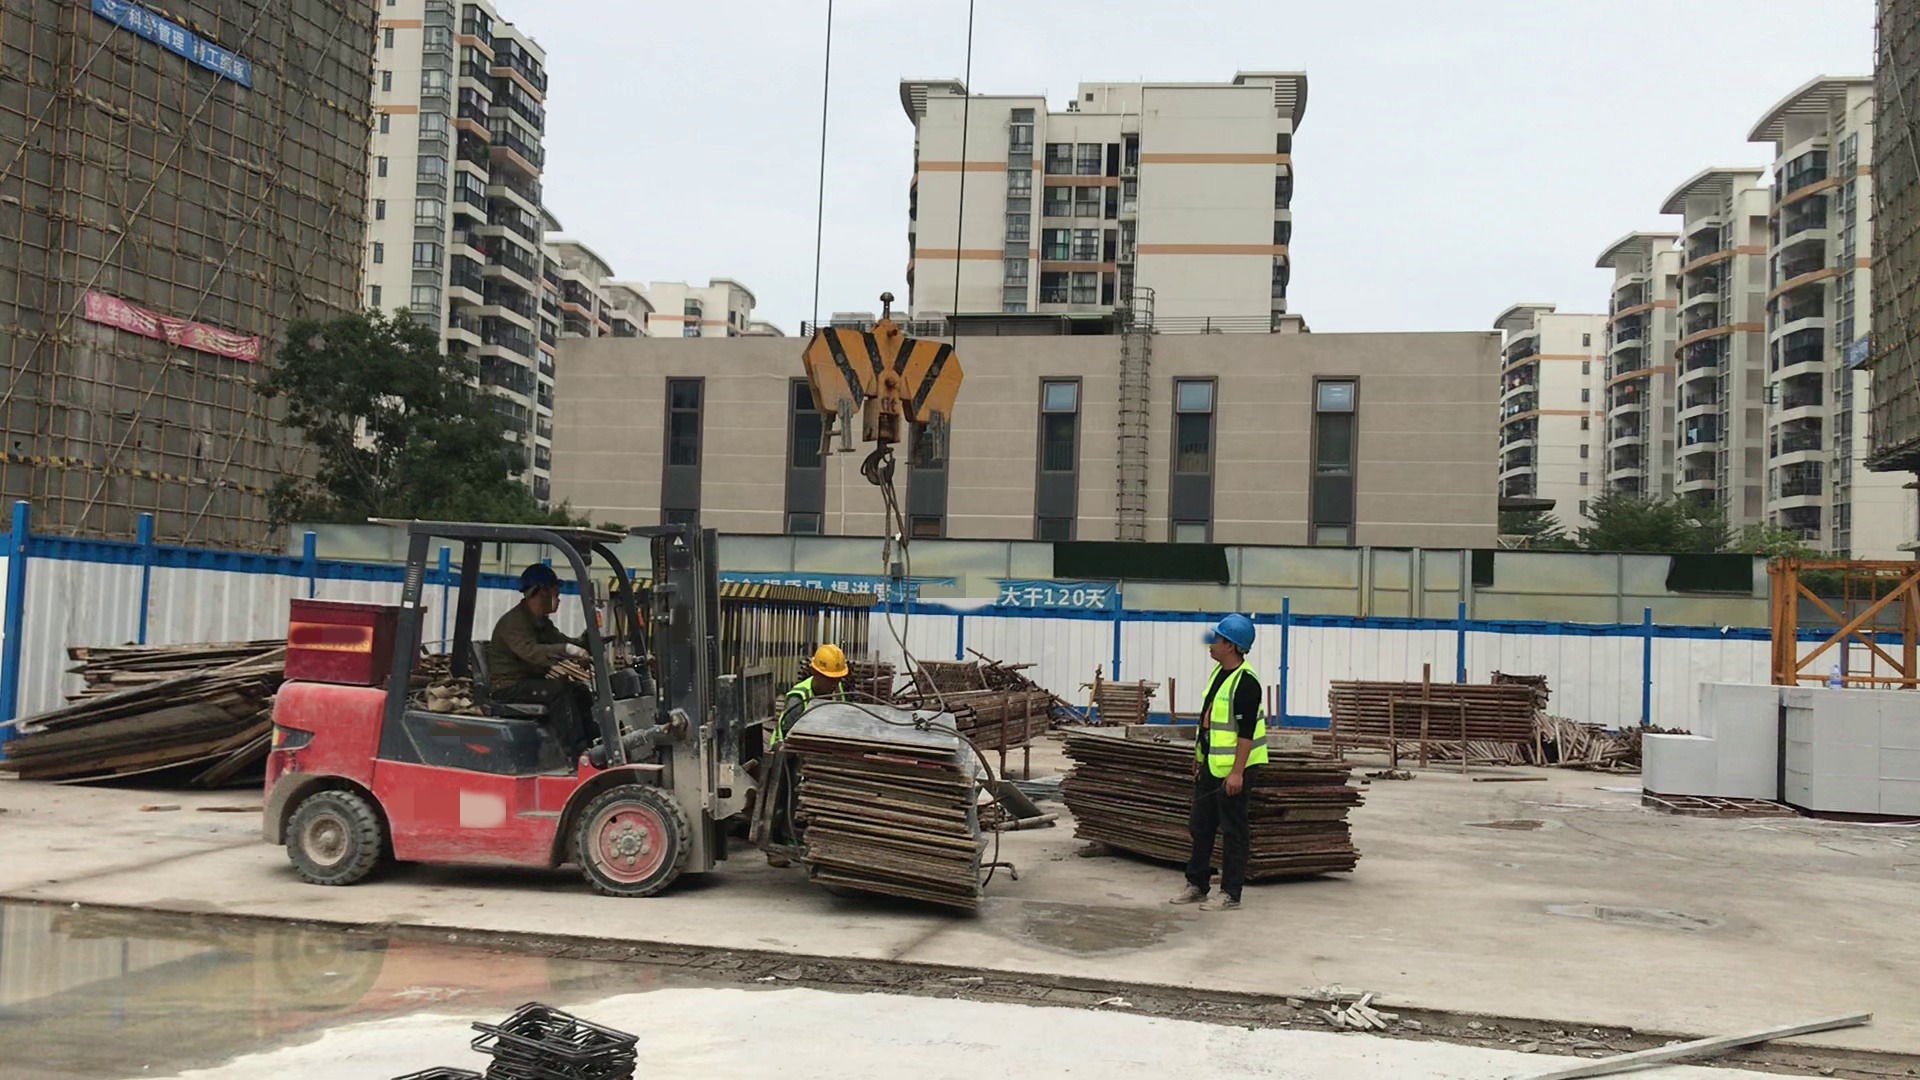board: (782, 699, 987, 918), (4, 639, 274, 794), (1051, 717, 1187, 881), (1270, 731, 1372, 891)
brick: (1786, 678, 1920, 825), (1631, 680, 1786, 802)
helmet: (1217, 614, 1258, 657), (809, 644, 849, 682), (515, 564, 564, 594)
hook: (797, 283, 960, 487)
person: (1167, 613, 1269, 915), (493, 562, 596, 772), (778, 641, 851, 707)
scaffold: (1326, 678, 1541, 743), (1079, 678, 1160, 721)
slogan: (82, 290, 260, 368), (94, 1, 251, 86), (917, 578, 1116, 617), (1847, 329, 1870, 369)
vest: (1203, 664, 1270, 787), (779, 681, 852, 706)
